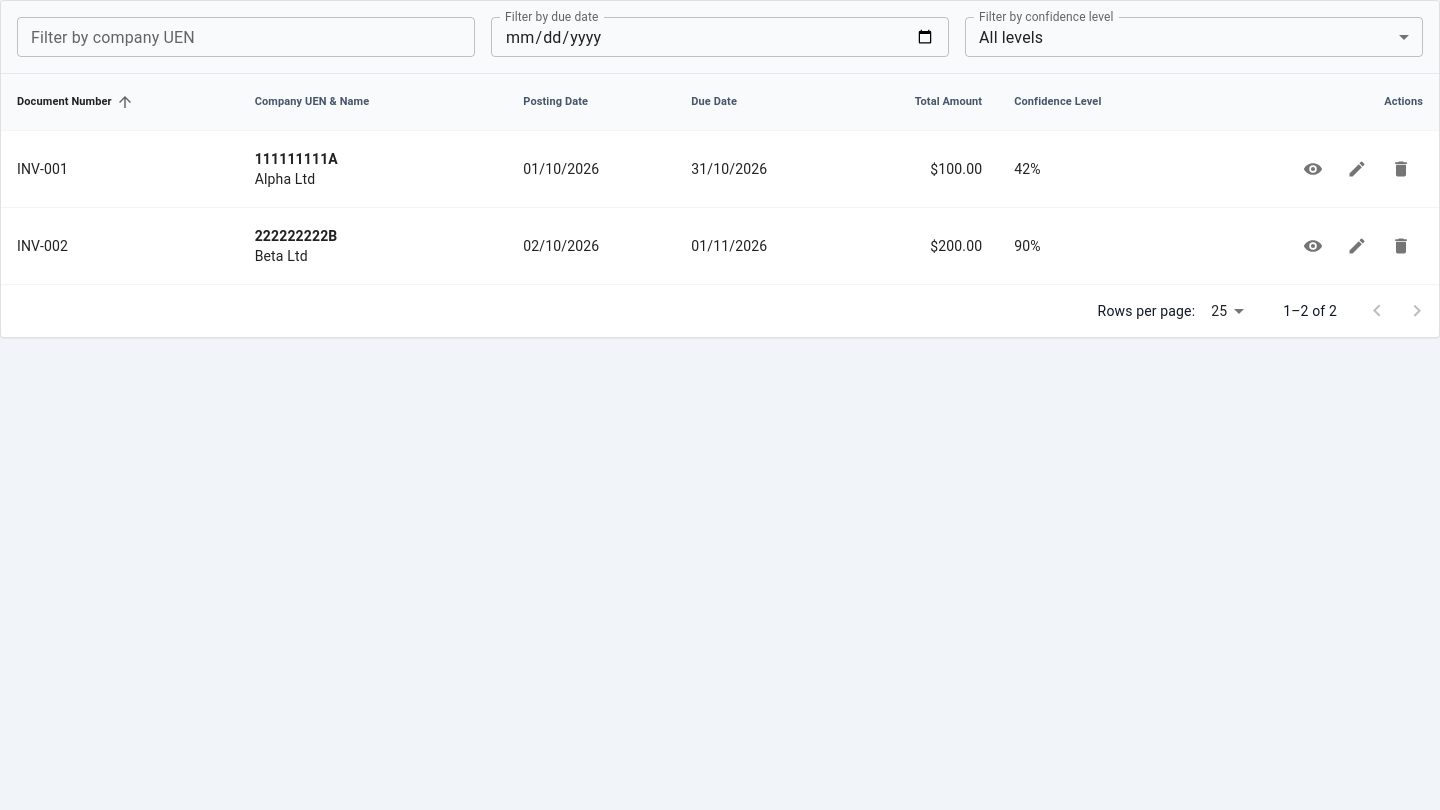
Test case: DocumentDataGrid › keeps the dialog open and shows the error when deletion fails
The width and height of the screenshot is (1440, 810).
Click the button named "delete inv-001". click: [1401, 169]
box: [1379, 147, 1423, 191]
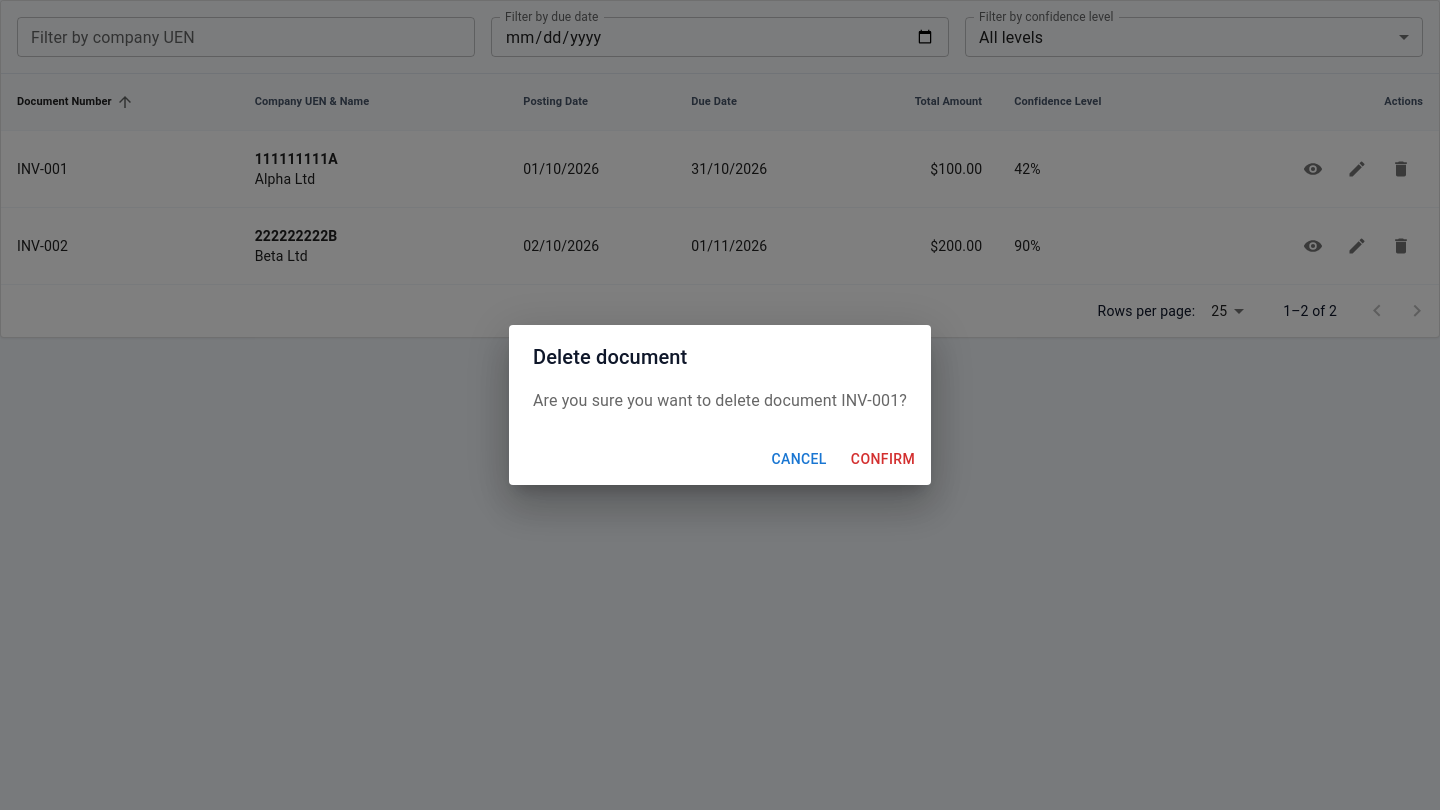
Click the button "Confirm". click: [883, 459]
box: [843, 441, 923, 477]
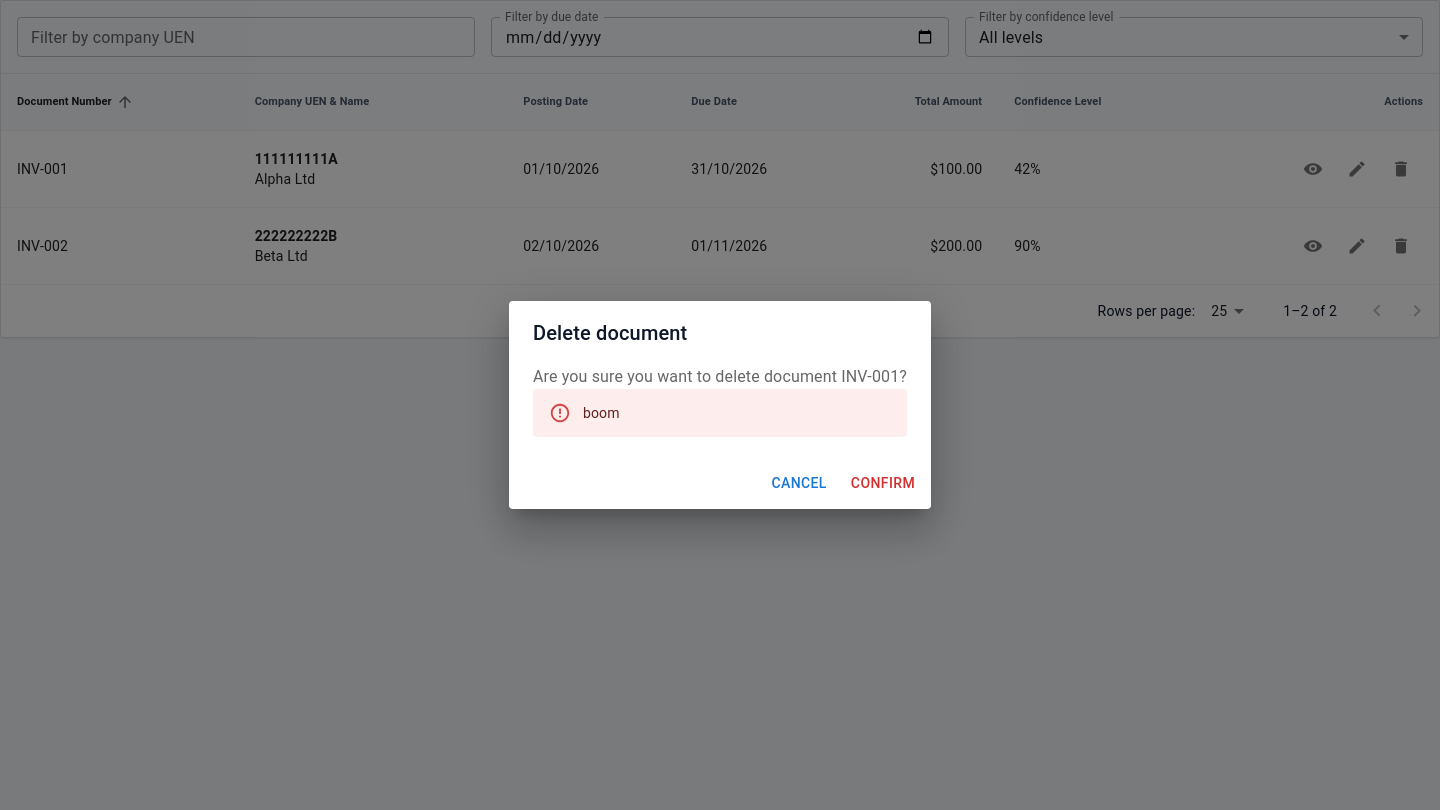
Expected: the text "boom" is shown, [583, 405, 620, 421]
